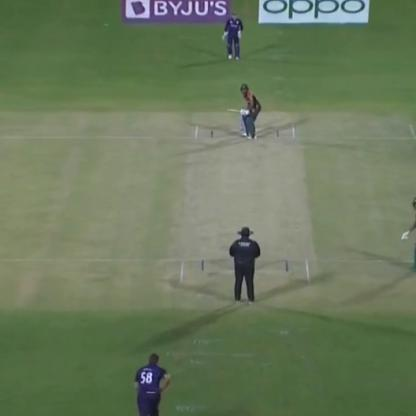bat: (223, 102, 246, 118)
pitch: (175, 125, 305, 298)
